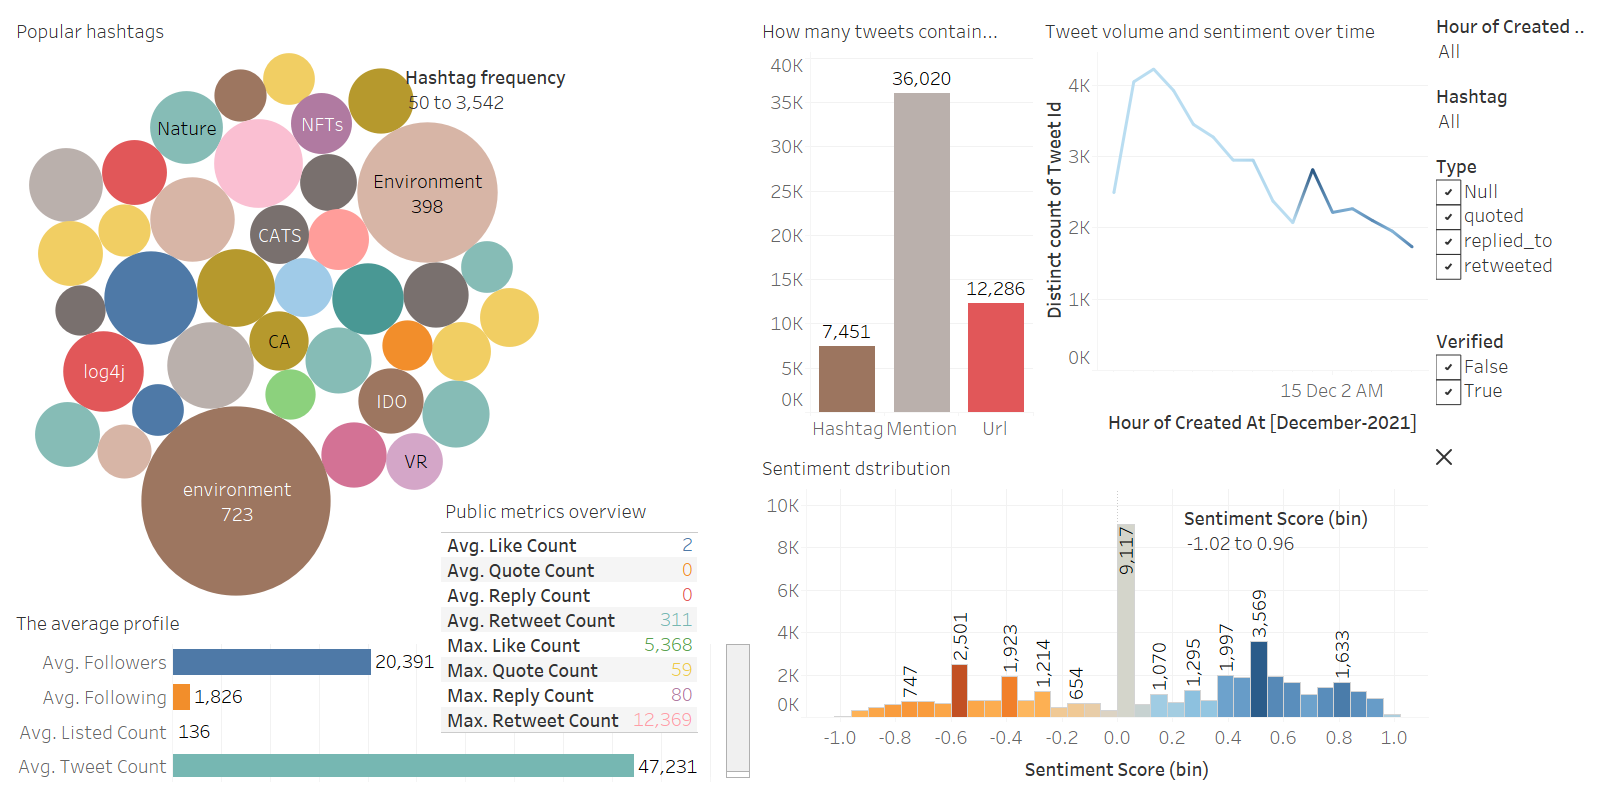

The dashboard page shown, as its layout file describes it:
{"tool":"tableau","page":{"name":"Dashboard 1","canvas":[1600,800],"ordinal":0},"visuals":[{"type":"worksheet","title":"Popular hashtags","mark":"Circle","box":[8,8,746,592]},{"type":"worksheet","title":"How many tweets contain...","mark":"Automatic","box":[754,8,283.1,437]},{"type":"worksheet","title":"Number of tweets by the hour","mark":"Automatic","rows":["tweet_id"],"cols":["created_at"],"box":[1037.1,8,394.9,437]},{"type":"filter","title":"Number of tweets by the hour","param":"[federated.120svys17vpkyz1bgdwsu1e14g30].[hr:created_at:ok]","box":[1432,8,160,70]},{"type":"filter","title":"Popular hashtags","param":"[federated.120svys17vpkyz1bgdwsu1e14g30].[__tableau_internal_object_id__].[cnt:H","box":[405,63,293,97]},{"type":"filter","title":"Popular hashtags","param":"[federated.120svys17vpkyz1bgdwsu1e14g30].[none:hashtag:nk]","box":[1432,78,160,70]},{"type":"filter","title":"How many tweets contain...","param":"[federated.120svys17vpkyz1bgdwsu1e14g30].[none:type:nk]","box":[1432,148,160,175]},{"type":"filter","title":"The average profile","param":"[federated.120svys17vpkyz1bgdwsu1e14g30].[none:verified:nk]","box":[1432,323,160,121]},{"type":"worksheet","title":"Sentiment dstribution","mark":"Automatic","rows":["sentiment_score"],"cols":["Sentiment Score (bin)"],"box":[754,445,678,347]},{"type":"dashboard-object","box":[1432,445,24,24]},{"type":"worksheet","title":"Public metrics overview","mark":"Automatic","box":[441,492,265,245]},{"type":"filter","title":"Sentiment dstribution","param":"[federated.120svys17vpkyz1bgdwsu1e14g30].[none:Sentiment Score (bin):qk]","box":[1099,500,239,77]},{"type":"worksheet","title":"The average profile","mark":"Automatic","box":[8,600,746,192]}]}

Visuals, with their boxes in screenshot pixels (x1, y1, x2, y2), scaled from the page's 1600x800 canvas onto the 1600x800 screenshot:
"Popular hashtags" worksheet (Circle marks): x1=8, y1=8, x2=754, y2=600
"How many tweets contain..." worksheet: x1=754, y1=8, x2=1037, y2=445
"Number of tweets by the hour" worksheet: x1=1037, y1=8, x2=1432, y2=445
"Number of tweets by the hour" filter: x1=1432, y1=8, x2=1592, y2=78
"Popular hashtags" filter: x1=405, y1=63, x2=698, y2=160
"Popular hashtags" filter: x1=1432, y1=78, x2=1592, y2=148
"How many tweets contain..." filter: x1=1432, y1=148, x2=1592, y2=323
"The average profile" filter: x1=1432, y1=323, x2=1592, y2=444
"Sentiment dstribution" worksheet: x1=754, y1=445, x2=1432, y2=792
dashboard-object: x1=1432, y1=445, x2=1456, y2=469
"Public metrics overview" worksheet: x1=441, y1=492, x2=706, y2=737
"Sentiment dstribution" filter: x1=1099, y1=500, x2=1338, y2=577
"The average profile" worksheet: x1=8, y1=600, x2=754, y2=792
